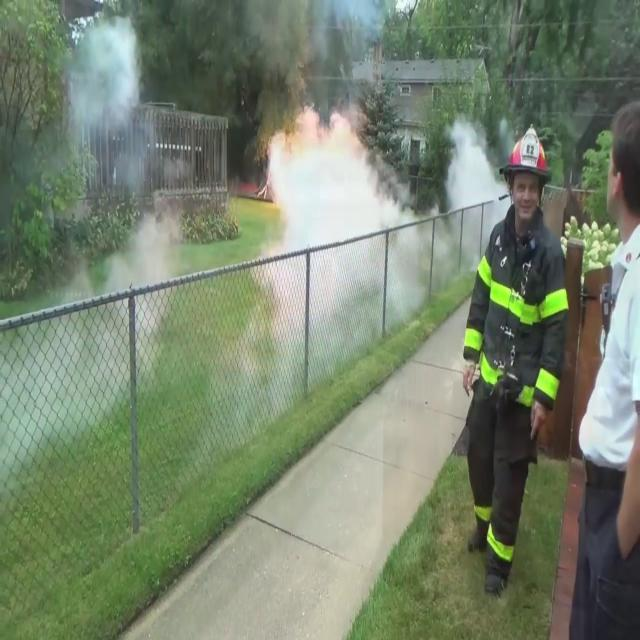Smoke: (231, 90, 425, 385), (1, 204, 201, 458), (56, 7, 154, 174), (440, 104, 509, 257)
